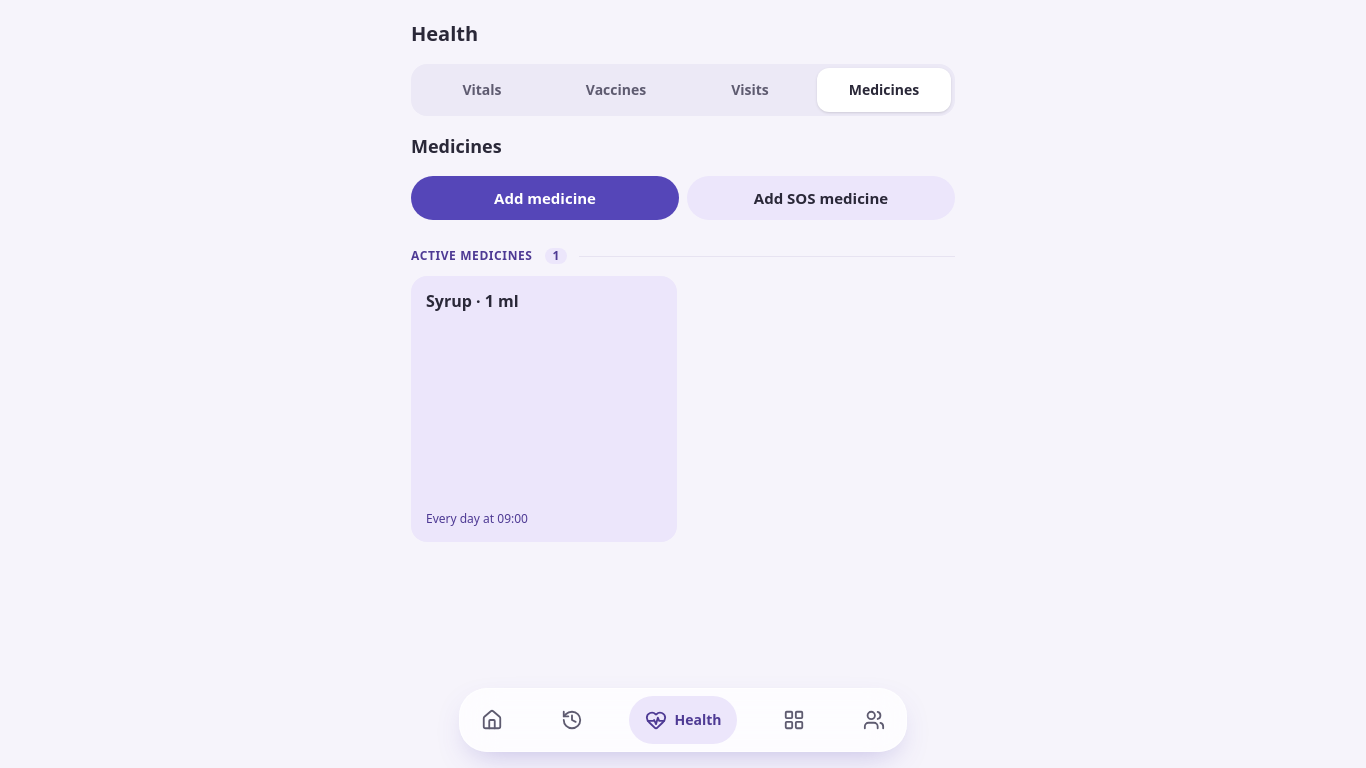
Test: history lists recent doses with dates and 12-hour times
This screenshot has width=1366, height=768.
Click the button with test id "medicine-m1": (472, 301) [411, 276, 677, 542]
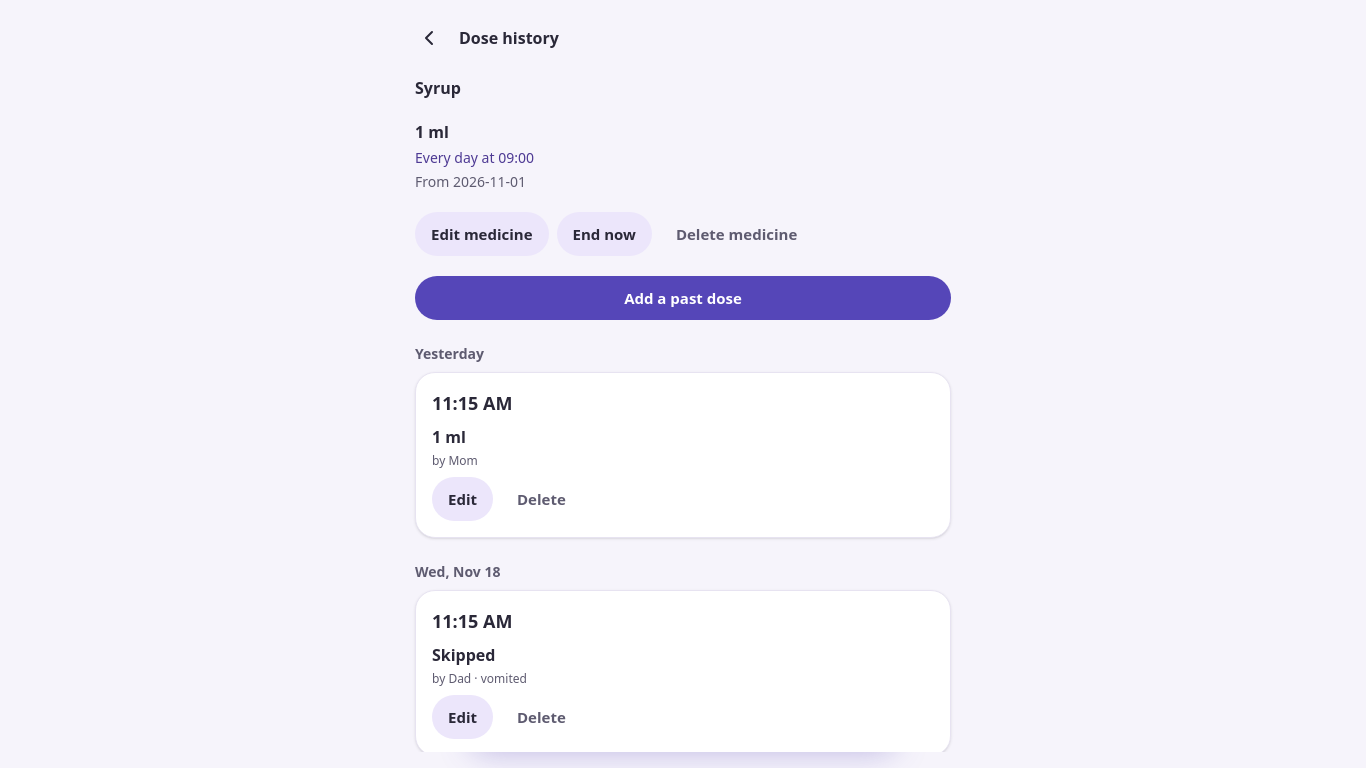
Expected: the text "by Mom" is shown, [432, 452, 478, 469]
Expected: the text "by Dad · vomited" is shown, [432, 670, 527, 687]
Expected: the text "Skipped" is shown, [432, 644, 496, 666]
